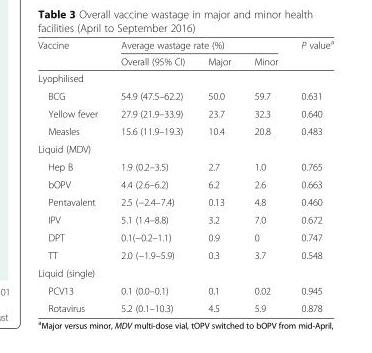table: (37, 37, 333, 313)
table column: (108, 37, 195, 313), (37, 37, 108, 313), (241, 37, 288, 313), (195, 37, 241, 313), (288, 37, 333, 313)
table column header: (37, 37, 333, 69)
table projected row header: (37, 139, 333, 157), (37, 263, 333, 281), (37, 69, 333, 86)
table row: (37, 86, 333, 104), (37, 104, 333, 122), (37, 139, 333, 157), (37, 157, 333, 175), (37, 192, 333, 210), (37, 210, 333, 228), (37, 245, 333, 263), (37, 263, 333, 281), (37, 281, 333, 299), (37, 52, 333, 69), (37, 69, 333, 86), (37, 122, 333, 139), (37, 175, 333, 192), (37, 228, 333, 245), (37, 37, 333, 52), (37, 299, 333, 313)
table spanning cell: (108, 37, 288, 52), (37, 37, 108, 69), (288, 37, 333, 69)
